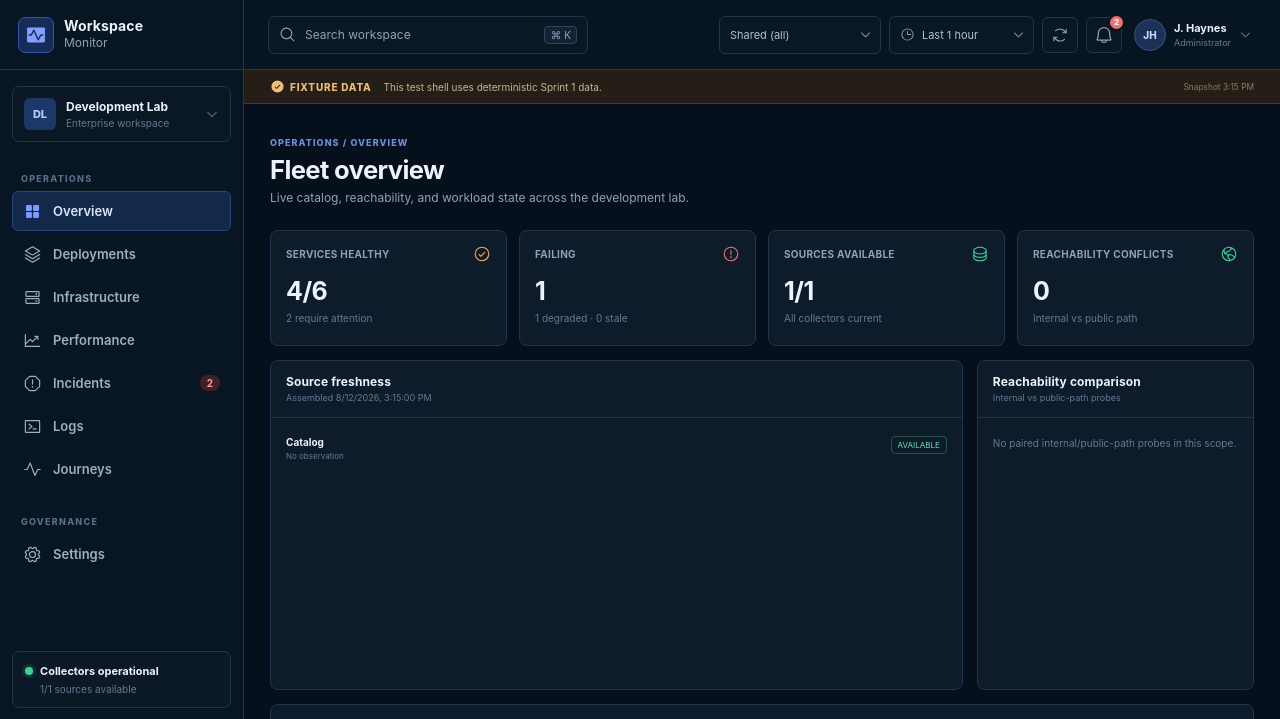
enterprise application shell › exposes the operator environment model and keeps Portfolio separate
The image size is (1280, 719).
Select "Portfolio" in the 1st dropdown named "Environment" at (791, 34), box [730,28,852,42]
(page scrolled)
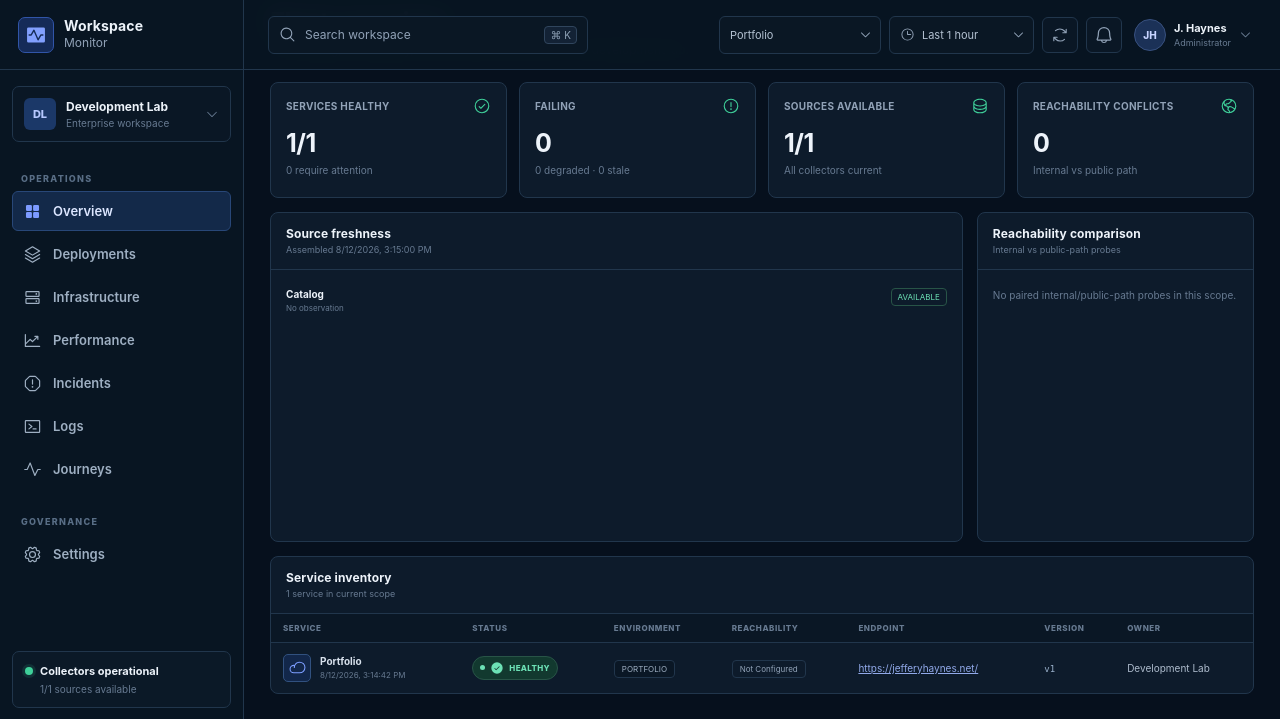
Expected: the link "Portfolio" is shown, [320,655,362,667]
Result: the text "1 service in current scope" is shown at [286,588,395,599]
